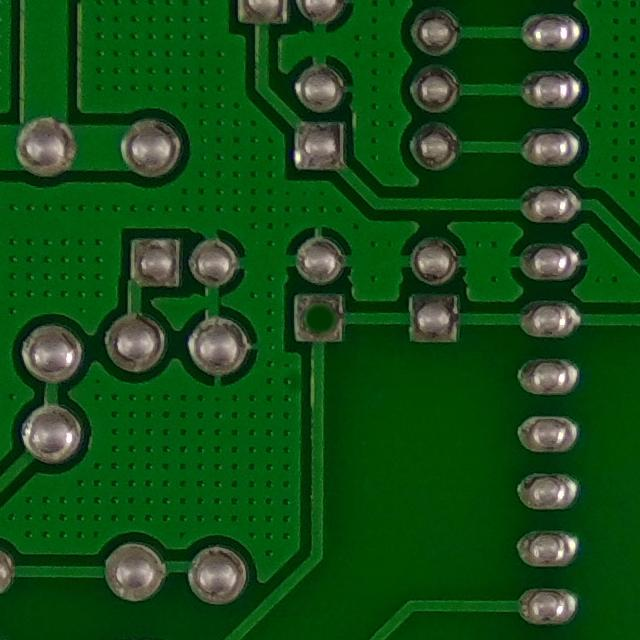missing_hole: (294, 293, 347, 347)
